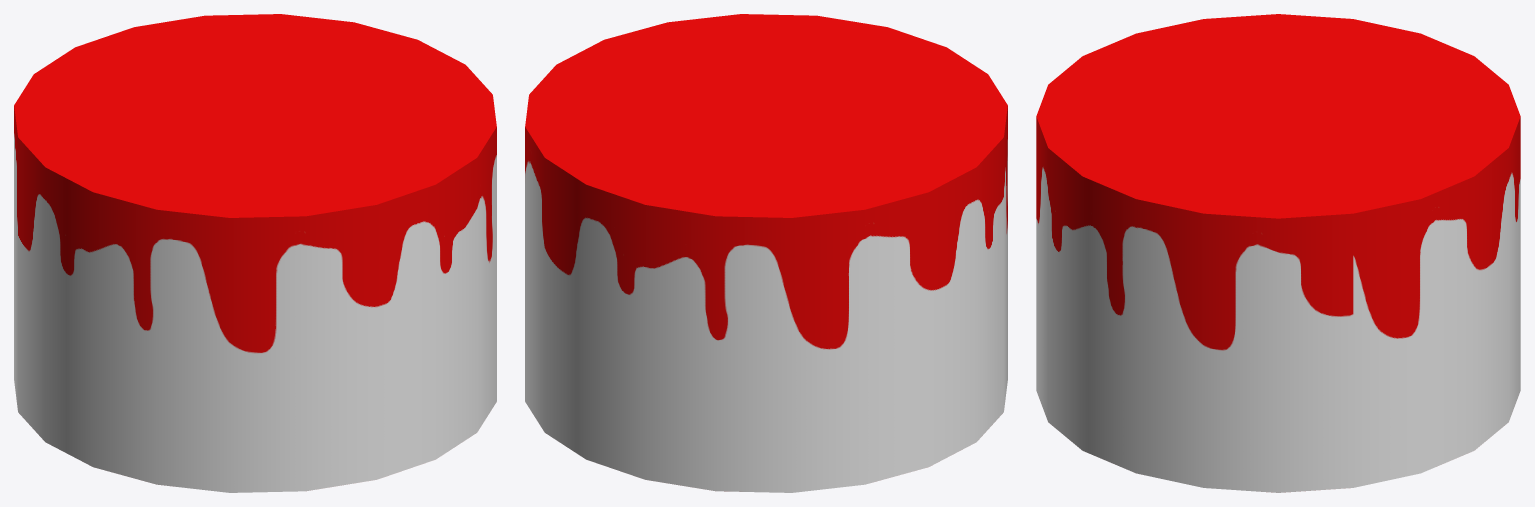
File: RedSmall.fbx
The picture shows the model from 3 angles, left to right: view 1: azimuth 30°, elevation 25°; view 2: azimuth 150°, elevation 25°; view 3: azimuth 270°, elevation 25°; orthographic projection.
Parts seen in each view (by area): view 1: RedSmall; view 2: RedSmall; view 3: RedSmall.
Boxes of the visible parts, <box> form: RedSmall: <box>14,14,496,492</box>; RedSmall: <box>525,14,1007,492</box>; RedSmall: <box>1036,14,1520,492</box>.
Bounding box in the file's own units: 400 × 250 × 400.
